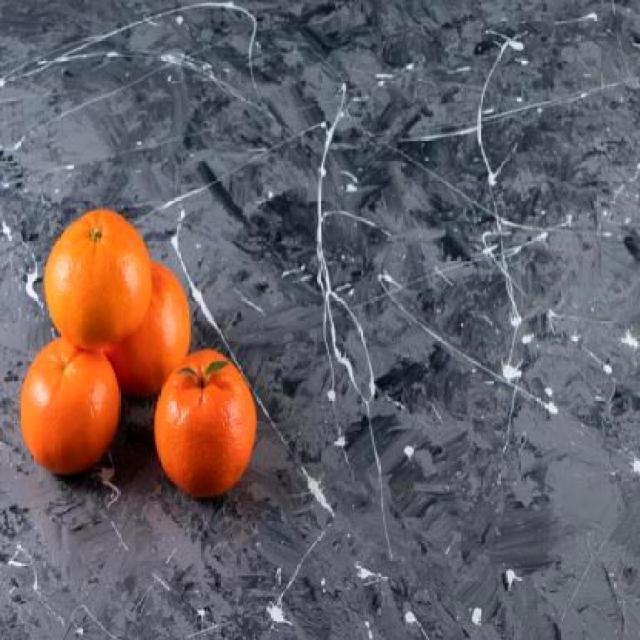Jeruk Sudah Matang: (46, 212, 154, 352), (156, 352, 258, 499), (83, 259, 192, 396), (19, 334, 122, 478)
